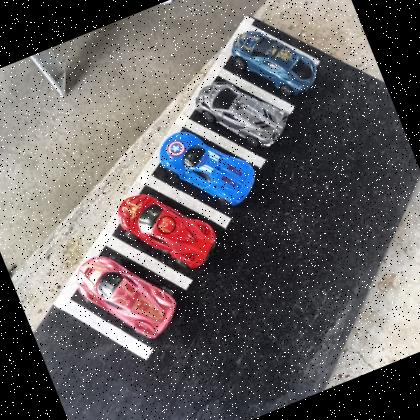Car: (68, 234, 186, 358), (113, 173, 224, 288), (153, 111, 264, 224), (189, 61, 298, 166), (226, 12, 324, 112)
